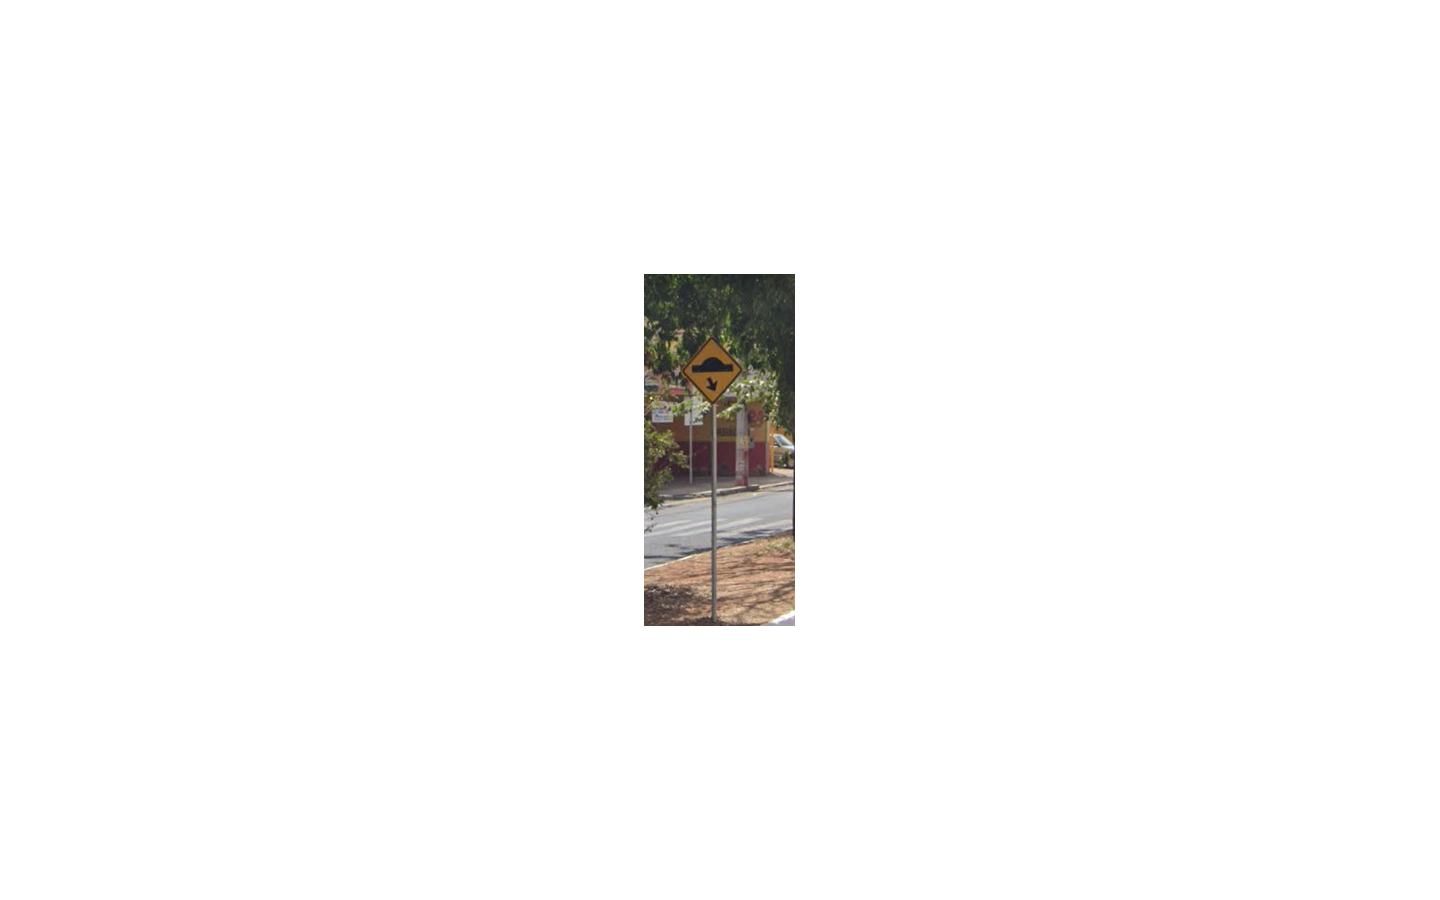lomb: (682, 336, 743, 405)
